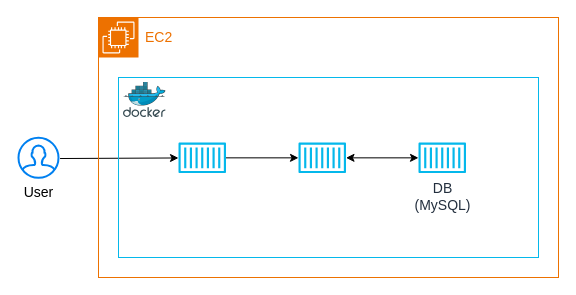
Some shapes in this 576 by 295 pixel diagram are drawn without their labels. Here are the shapes that lost their labels. From the top down, the centre of each, then its label:
At (202,157): "Webサーバー (NGINX )".
At (322,157): "APP ( Gunicorn+Django)".
